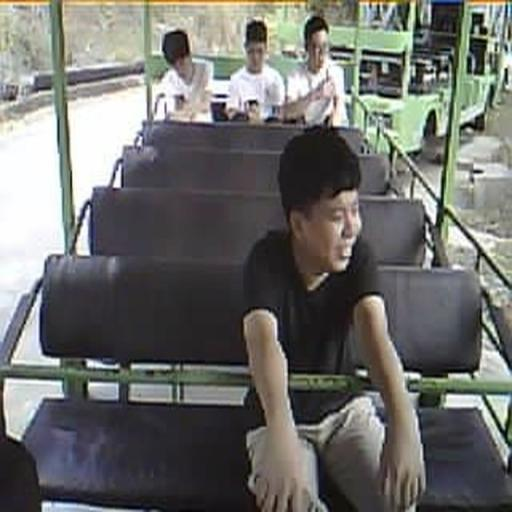persona: (241, 126, 427, 511), (285, 14, 349, 128), (226, 18, 286, 123), (152, 28, 214, 119)
